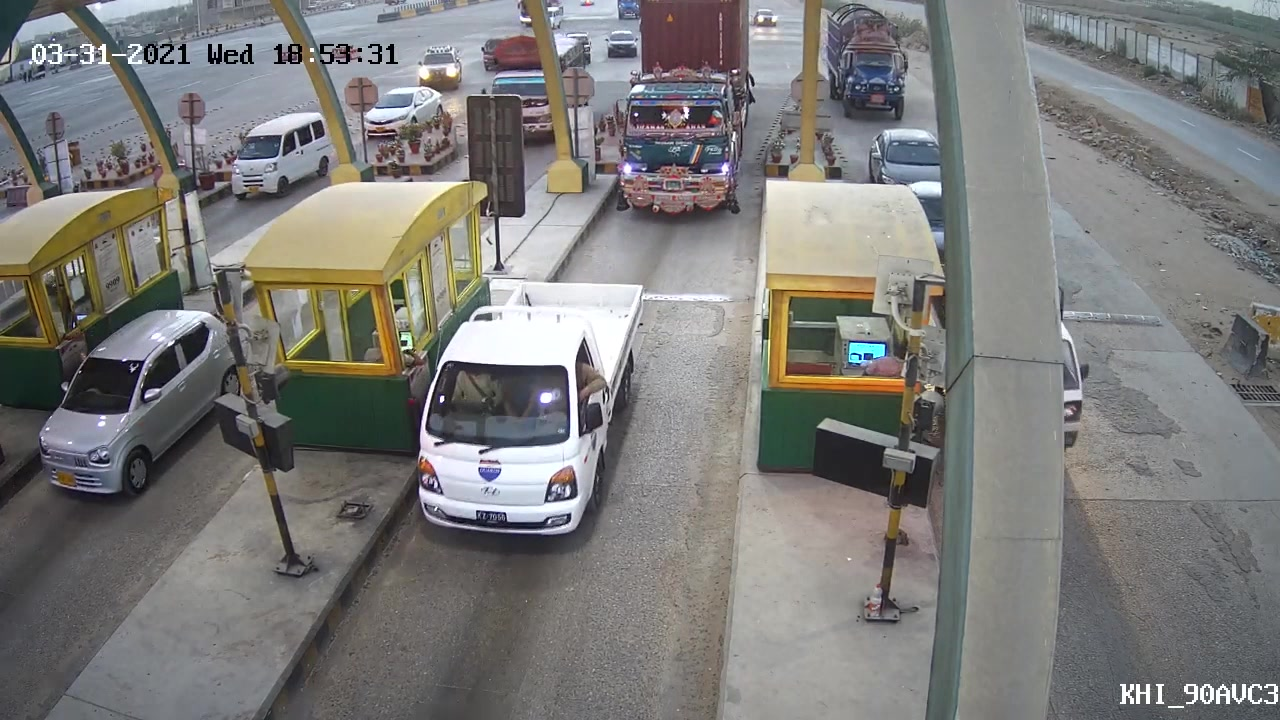F1: (410, 269, 653, 535)
F6: (611, 1, 762, 227)
